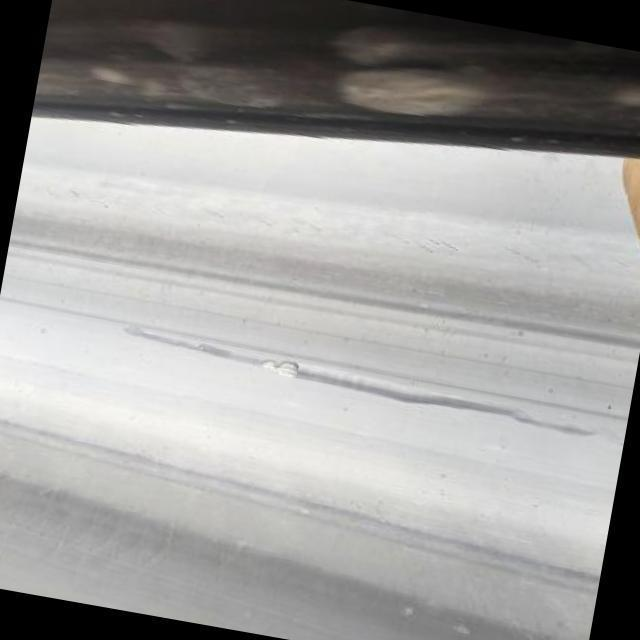Impact Damage: (258, 354, 306, 380)
